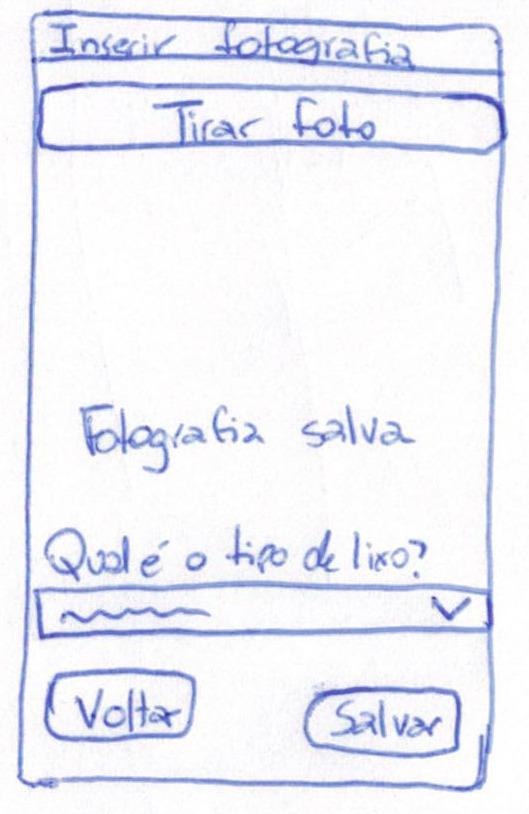Button: (38, 79, 507, 156), (304, 683, 460, 759), (44, 668, 198, 744)
Label: (78, 401, 416, 473), (43, 526, 429, 582), (46, 21, 419, 70)
ListPicker: (33, 583, 492, 641)
Screen: (17, 10, 505, 792)
